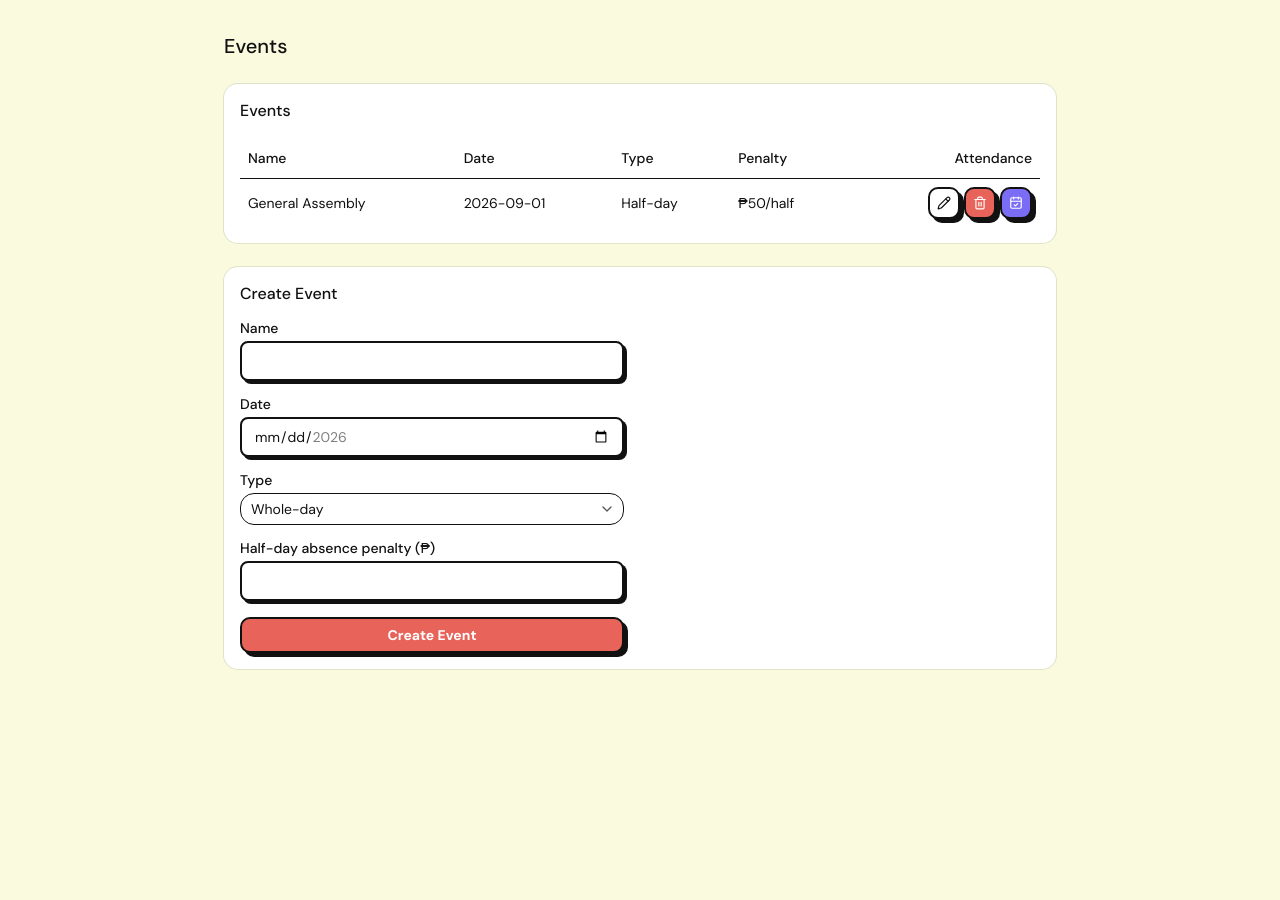
Test: Events row actions render as icon-only bordered buttons (Issue #257) › still opens the delete confirmation when the icon-only Delete button is clicked
Click the button named "Delete" at (980, 202), box [964,186,996,218]
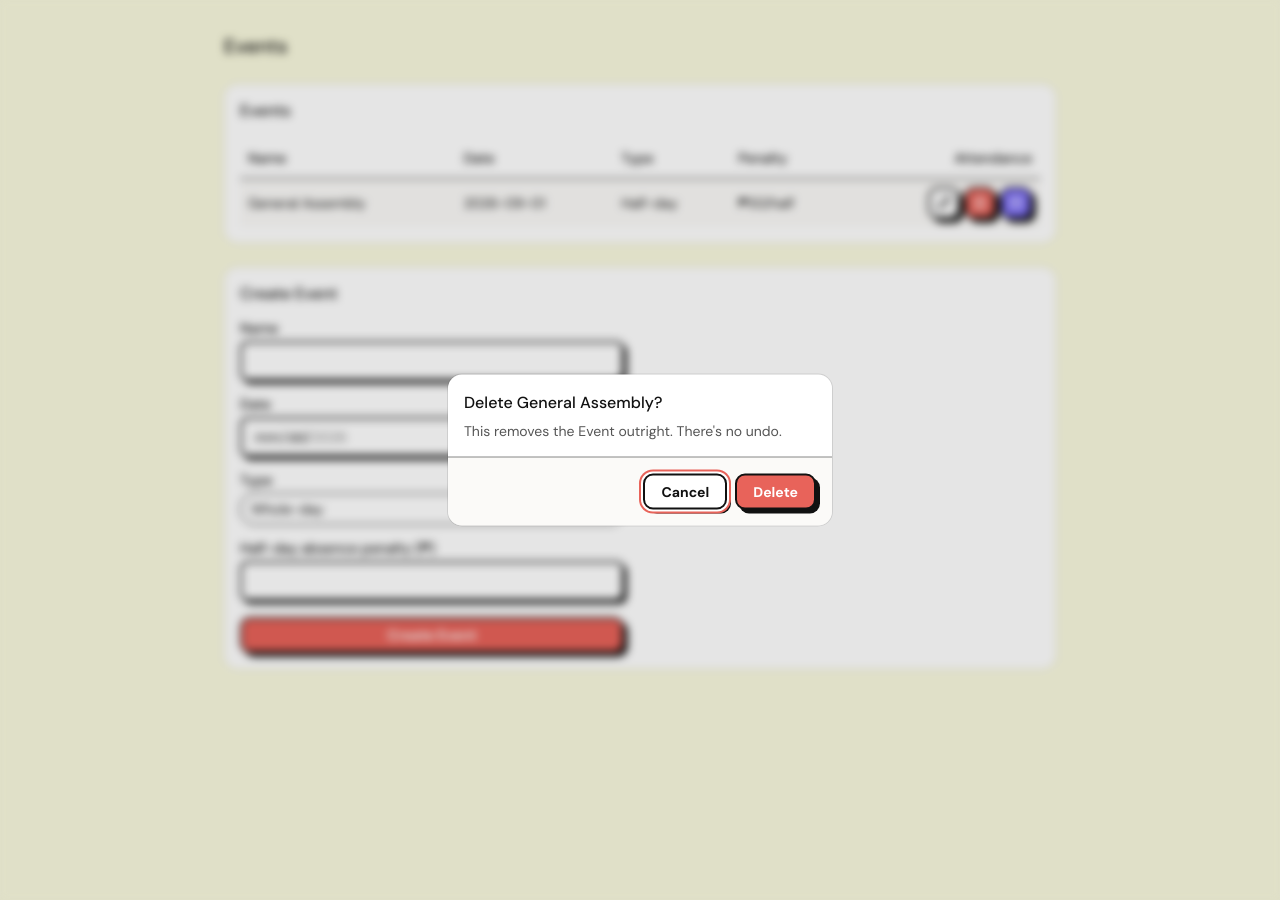
Result: the heading "Delete General Assembly?" is shown at [464,390,662,414]
